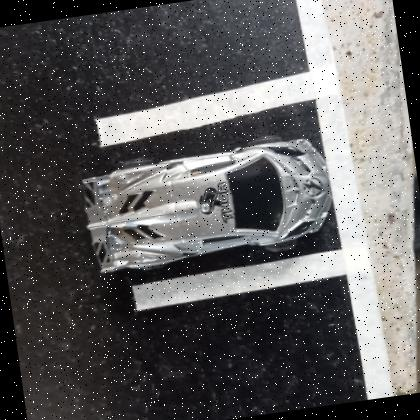Car: (83, 139, 333, 275)
